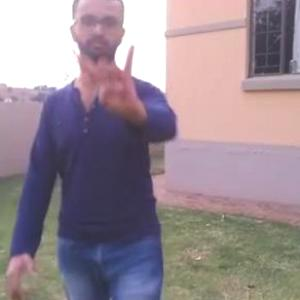takeoff-hand: (69, 40, 141, 120)
